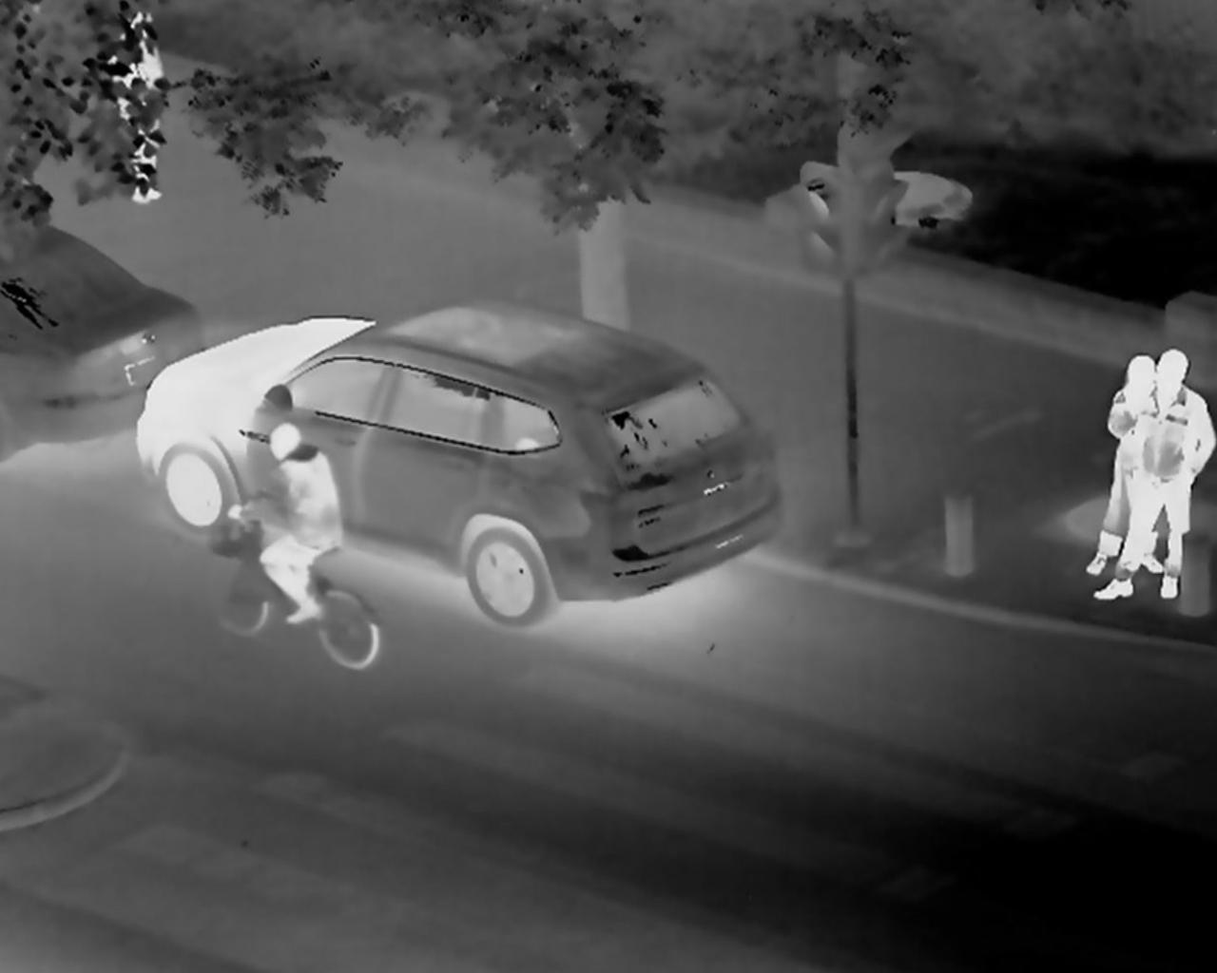person: (1133, 359, 1213, 609), (238, 422, 341, 597), (1101, 346, 1133, 565)
